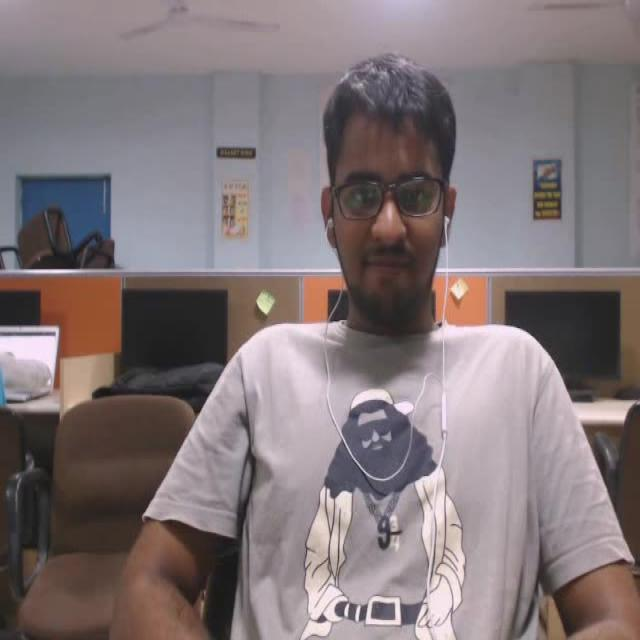Engaged: (282, 50, 496, 358)
